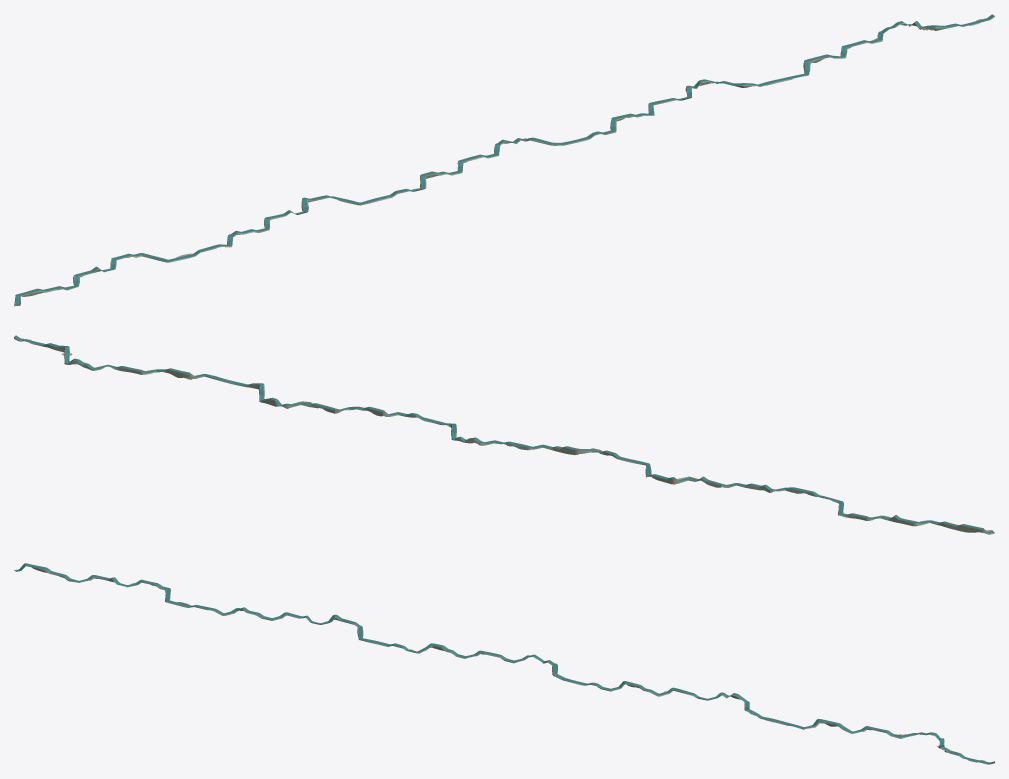
File: river.glb
The picture shows the model from 3 angles, top to bottom: view 1: azimuth 30°, elevation 25°; view 2: azimuth 150°, elevation 25°; view 3: azimuth 330°, elevation 25°; orthographic projection. The views are drawn at different scales.
Size of the model in its own units: 361 by 2.08 by 40.76.
